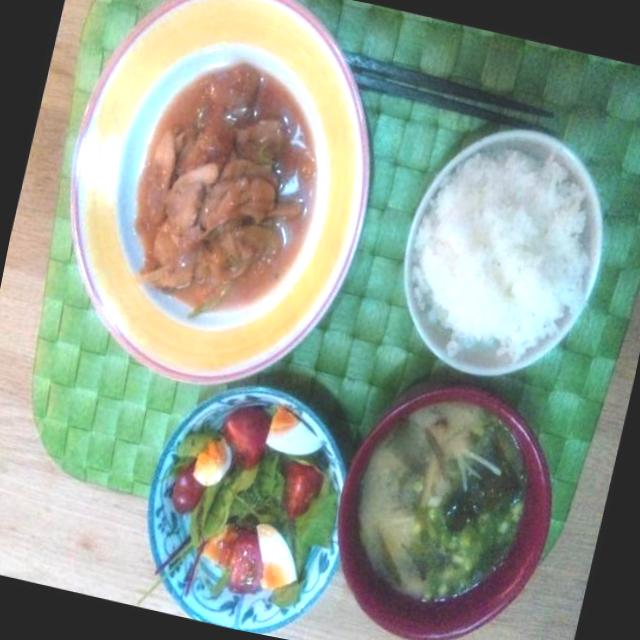Rice: (372, 92, 636, 406)
